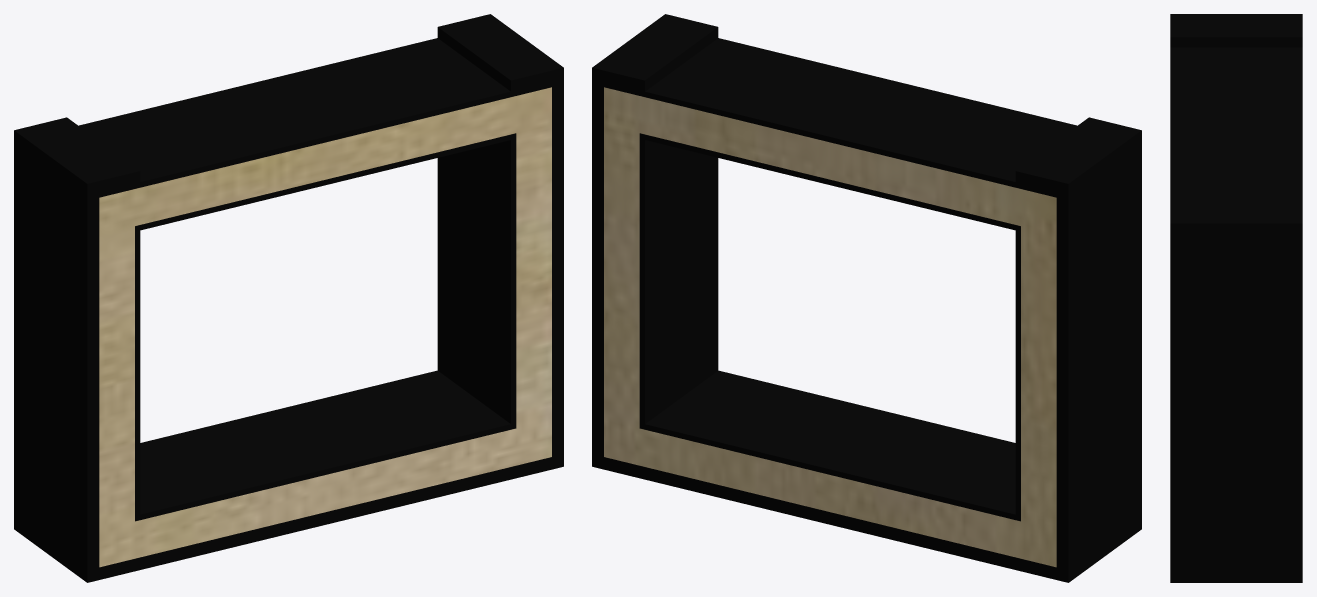
The picture shows the model from 3 angles, left to right: view 1: azimuth 30°, elevation 25°; view 2: azimuth 150°, elevation 25°; view 3: azimuth 270°, elevation 25°; orthographic projection. The views are drawn at different scales.
Parts seen in each view (by area): view 1: E-3; view 2: E-3; view 3: E-3.
Part boxes in pixels (box(x1,y1,x2,y2)): E-3: box(14, 14, 563, 582); E-3: box(592, 14, 1141, 582); E-3: box(1170, 14, 1302, 582).
Bounding box in the file's own units: 4.5 × 3.6 × 1.2.
2 materials, 1 textured.
